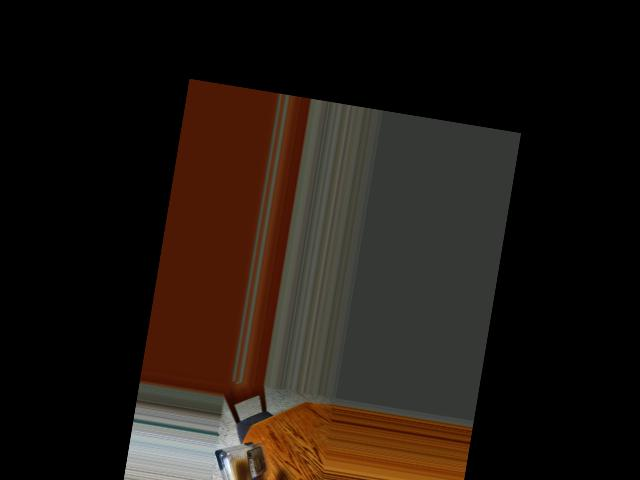cheese: (217, 437, 267, 480)
